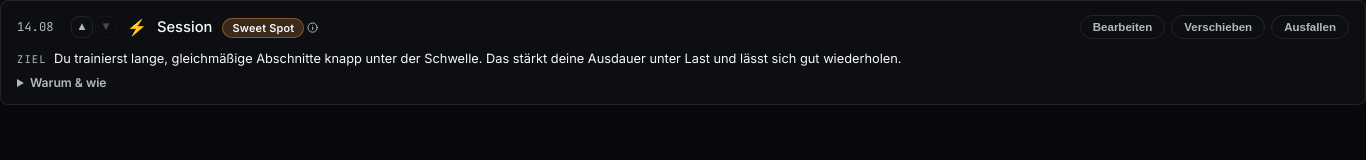
Test: WeekGridDetailRow — Umsortieren innerhalb des Tages › zeigt eine Fehlermeldung, wenn das Umsortieren fehlschlägt
Click the button named "Eine Position nach oben".
click(82, 27)  # box [71,16,93,38]
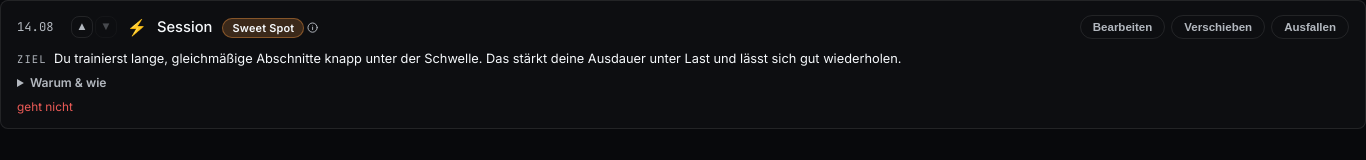
Now the text "geht nicht" is shown, box [17,100,73,114]
